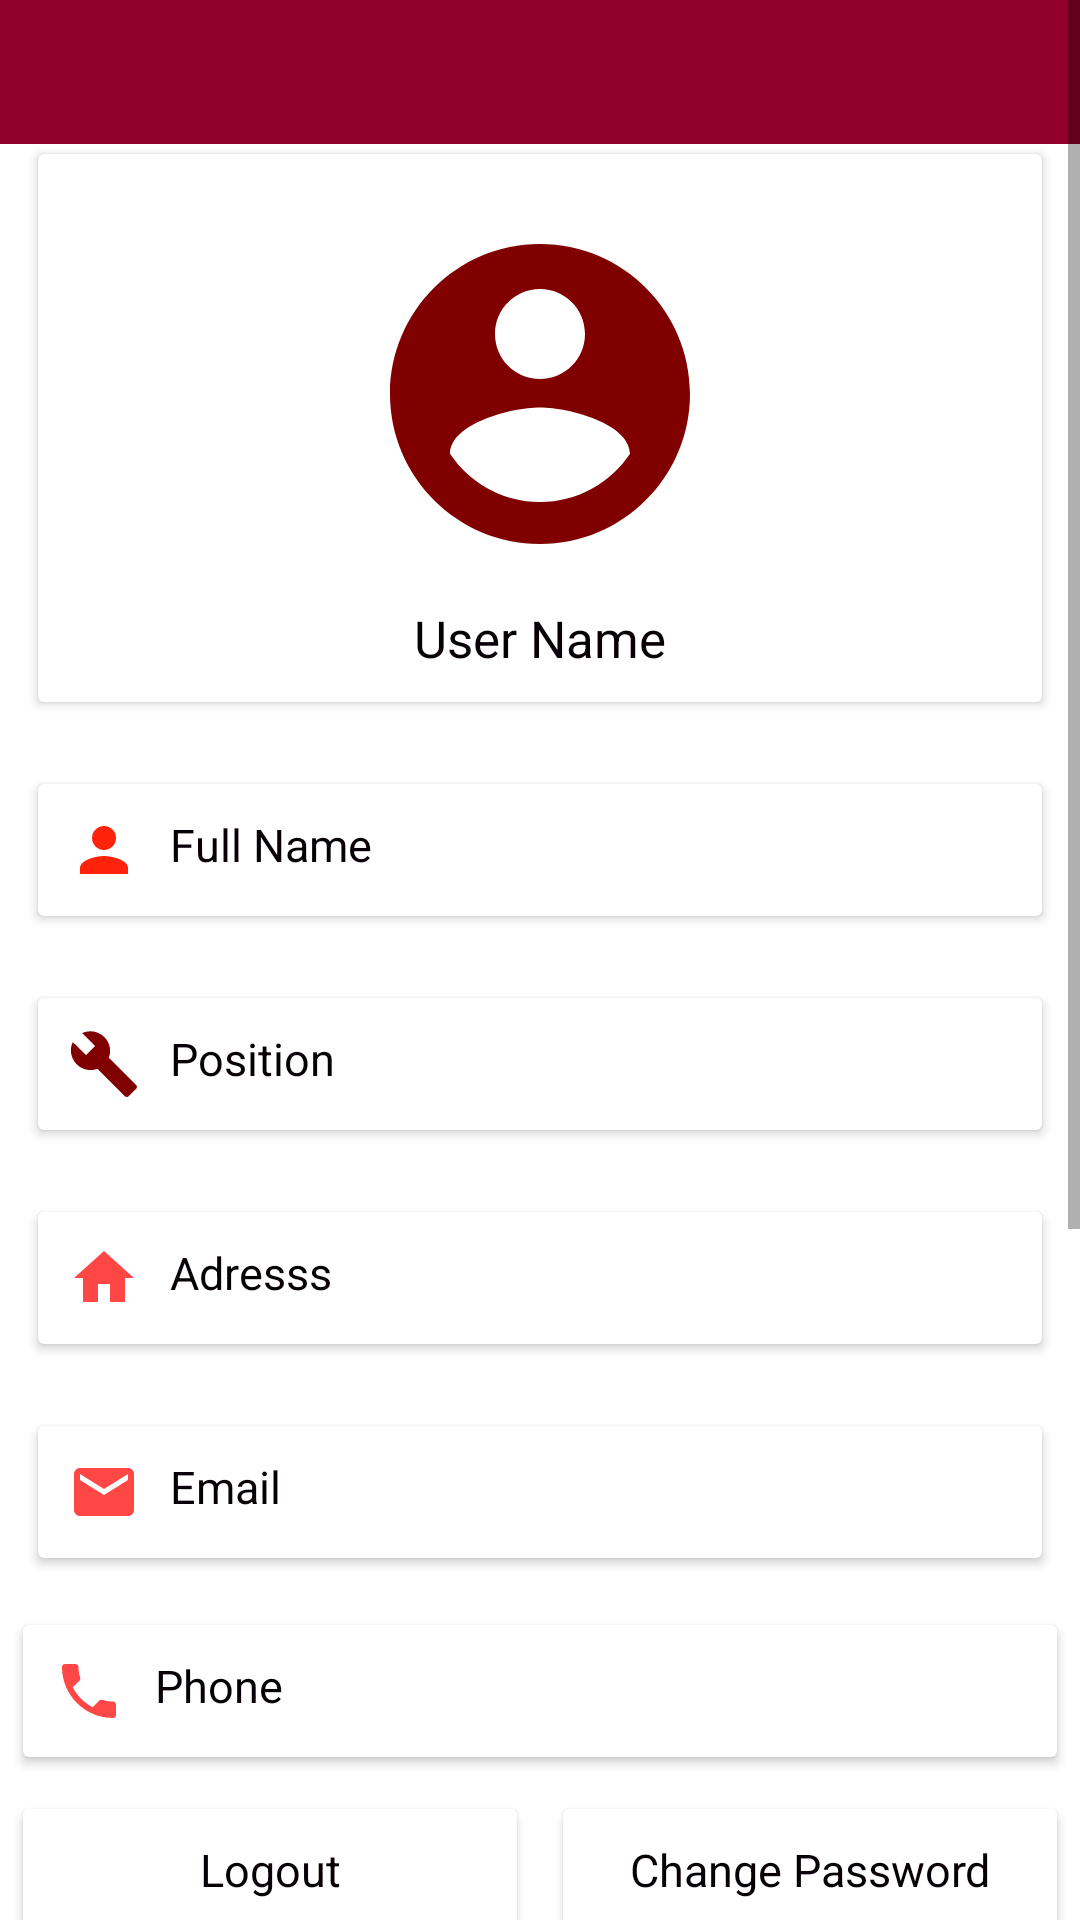

Where to tap for icons on this 1080x1920 app screen, as point (x, y):
account circle: point (540, 394)
